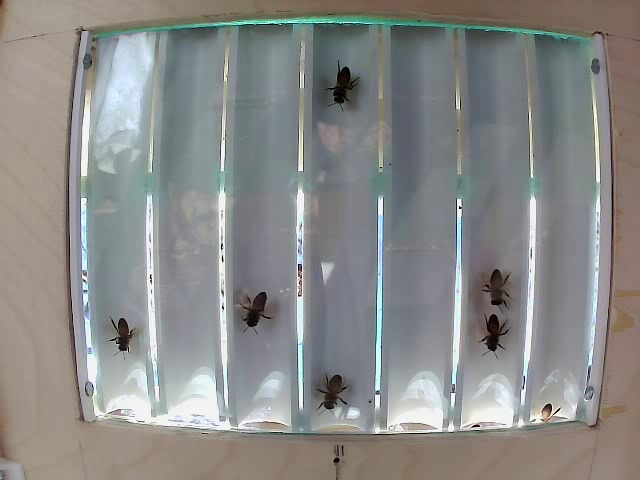bee: (331, 54, 372, 121), (318, 367, 361, 420), (476, 304, 512, 363), (483, 269, 517, 327), (91, 314, 132, 355), (235, 297, 268, 345)
